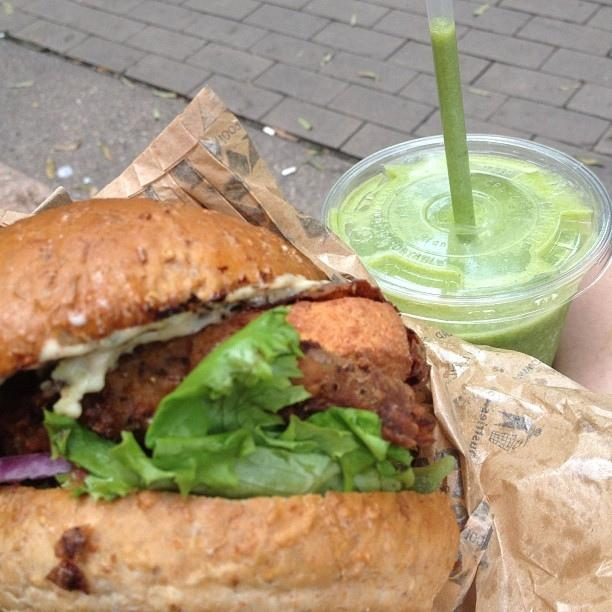lettuce: (43, 304, 416, 498)
onion: (0, 452, 71, 484)
